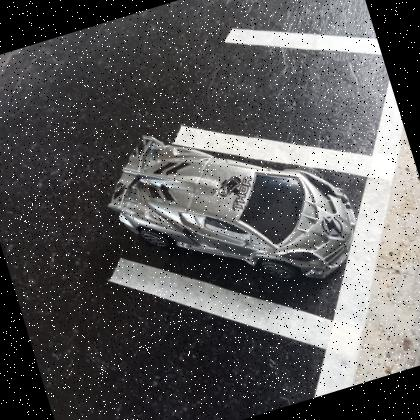Car: (110, 136, 357, 281)
